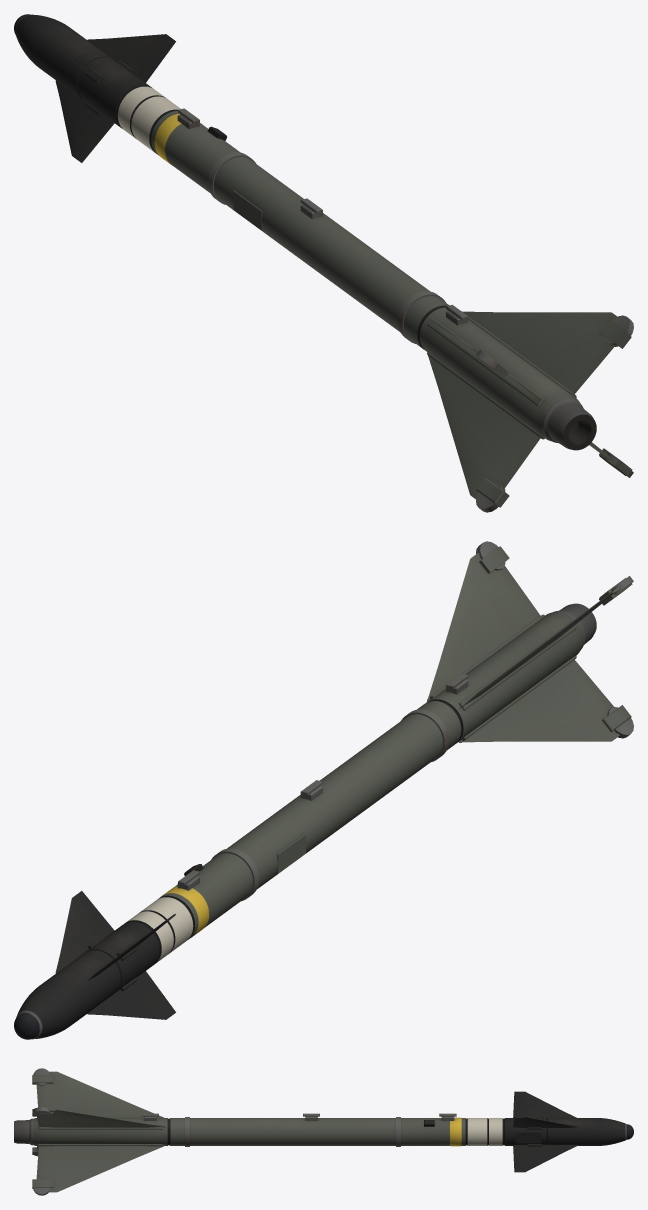
Rendered from msl_chaparral.glb.
3 renders of one model, top to bottom at view 1: azimuth 30°, elevation 25°; view 2: azimuth 150°, elevation 25°; view 3: azimuth 270°, elevation 25°, orthographic. The views are drawn at different scales.
Visible parts, largest first — view 1: body|M72_atlas; view 2: body|M72_atlas; view 3: body|M72_atlas.
Part boxes in pixels (bbox=[...]): body|M72_atlas: bbox=[14, 14, 633, 512]; body|M72_atlas: bbox=[14, 541, 633, 1039]; body|M72_atlas: bbox=[14, 1068, 633, 1195].
Bounding box in the file's own units: 0.4568 × 0.4568 × 2.9.
Materials: 1 (1 with a texture image).
